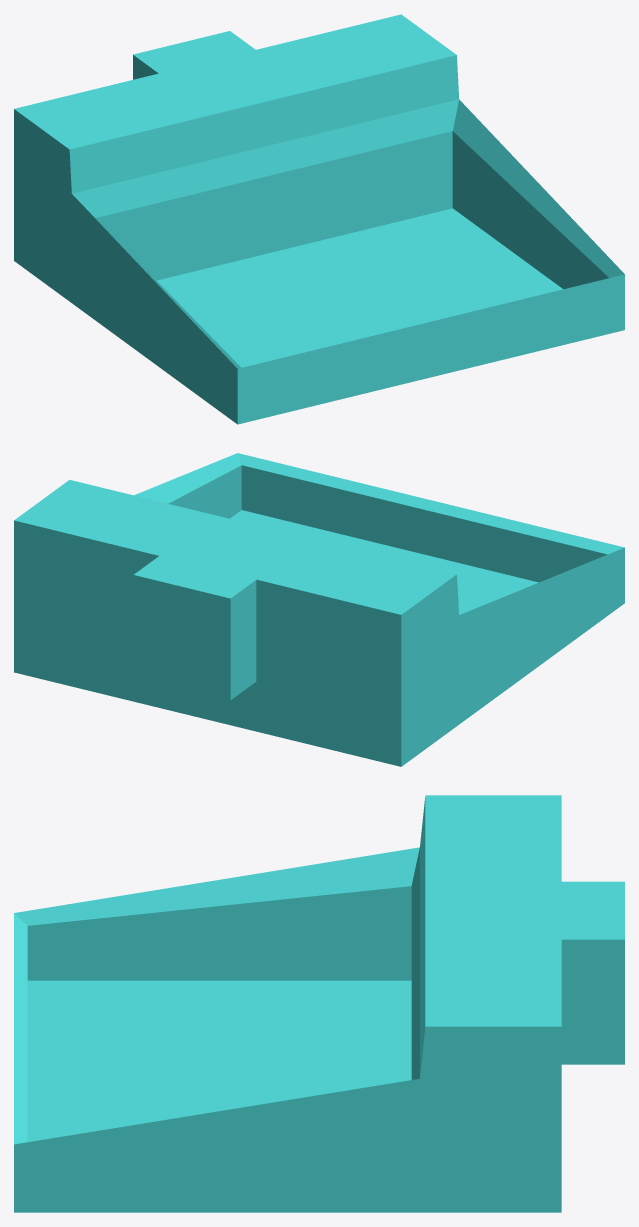
Rendered from small ground collector collision.fbx.
The picture shows the model from 3 angles, top to bottom: view 1: azimuth 30°, elevation 25°; view 2: azimuth 150°, elevation 25°; view 3: azimuth 270°, elevation 25°; orthographic projection. The views are drawn at different scales.
Parts seen in each view (by area): view 1: small ground collector collision; view 2: small ground collector collision; view 3: small ground collector collision.
Part boxes in pixels (<box>): small ground collector collision: <box>14,14,624,424</box>; small ground collector collision: <box>14,453,624,766</box>; small ground collector collision: <box>14,795,624,1212</box>.
Size of the model in its own units: 400 by 150 by 446.
